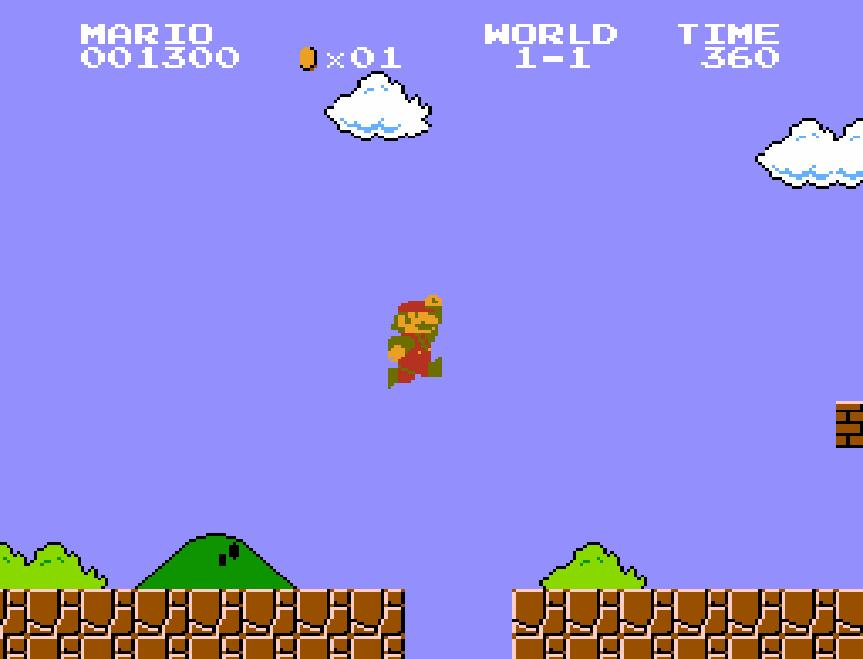big_mario: (386, 292, 444, 390)
